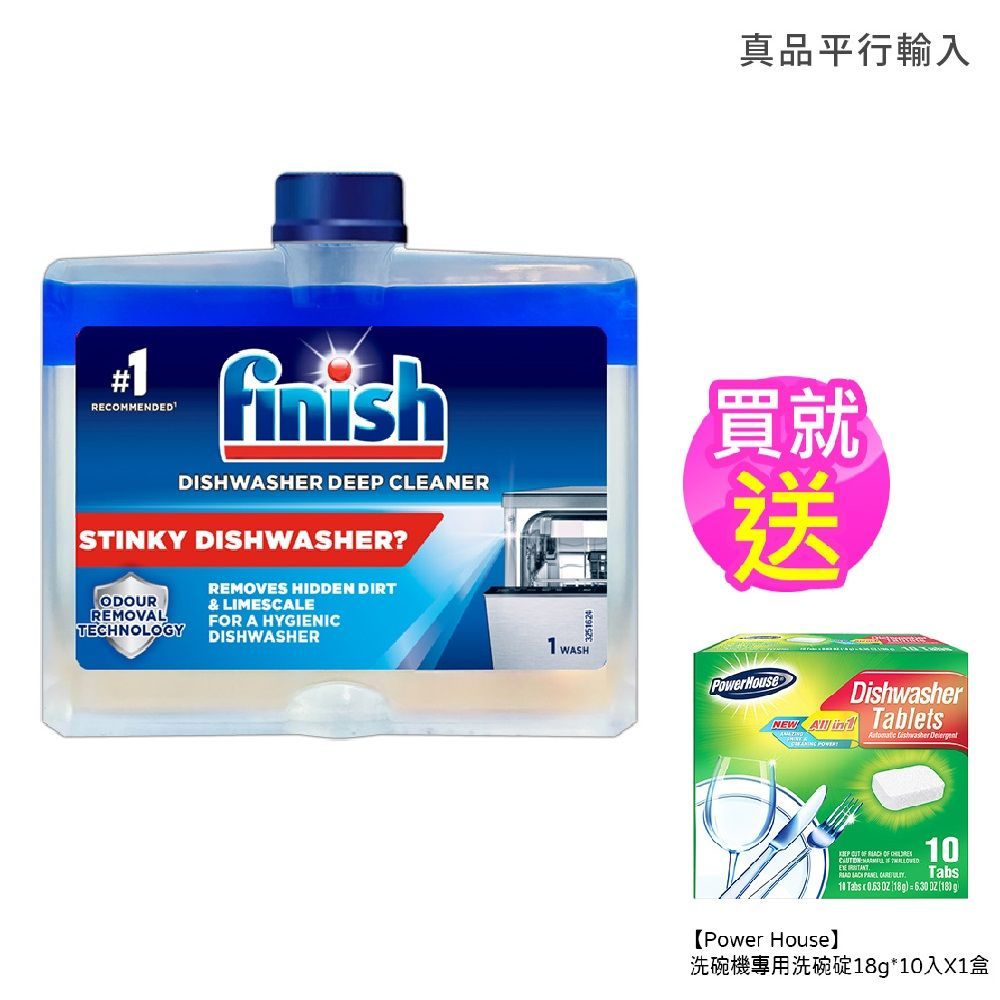cleaner: (40, 166, 663, 761)
